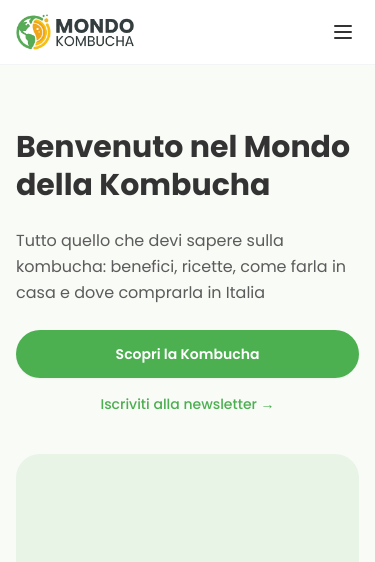
it: Critical user flows › opens mobile hamburger menu and shows links
Click the button named "Apri menu" at (343, 32), box [323,12,363,52]
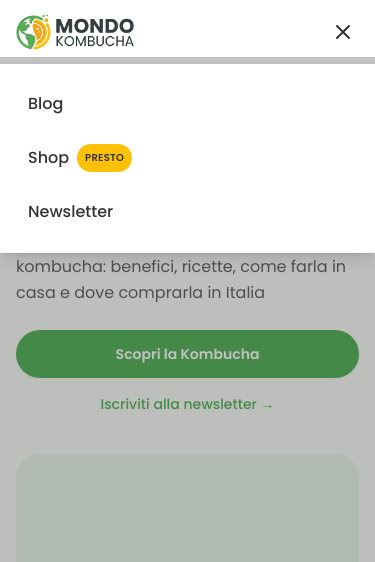
Now the element with id "mobile-nav" is shown, box [0,64,374,253]
Now the link "Blog" is shown, box [28,92,63,115]
Now the link "Shop Presto" is shown, box [28,144,132,172]
